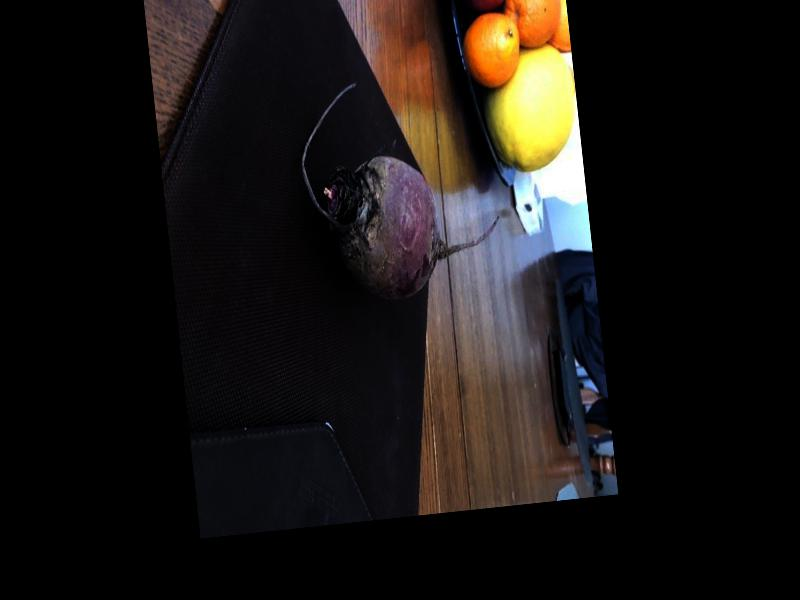Beet: (293, 68, 507, 308)
